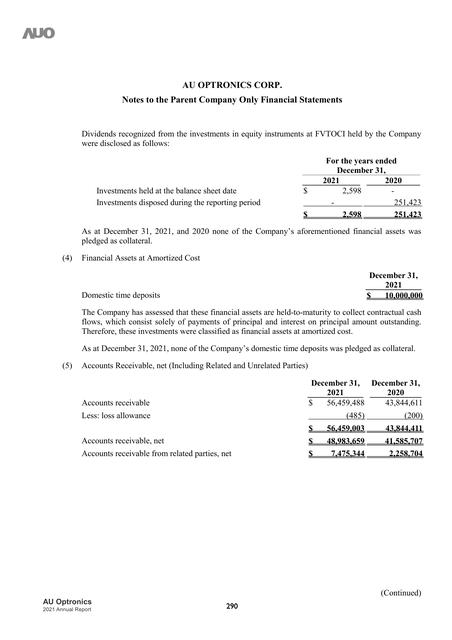box: (81, 361, 428, 462), (95, 155, 424, 223), (79, 269, 425, 301)
